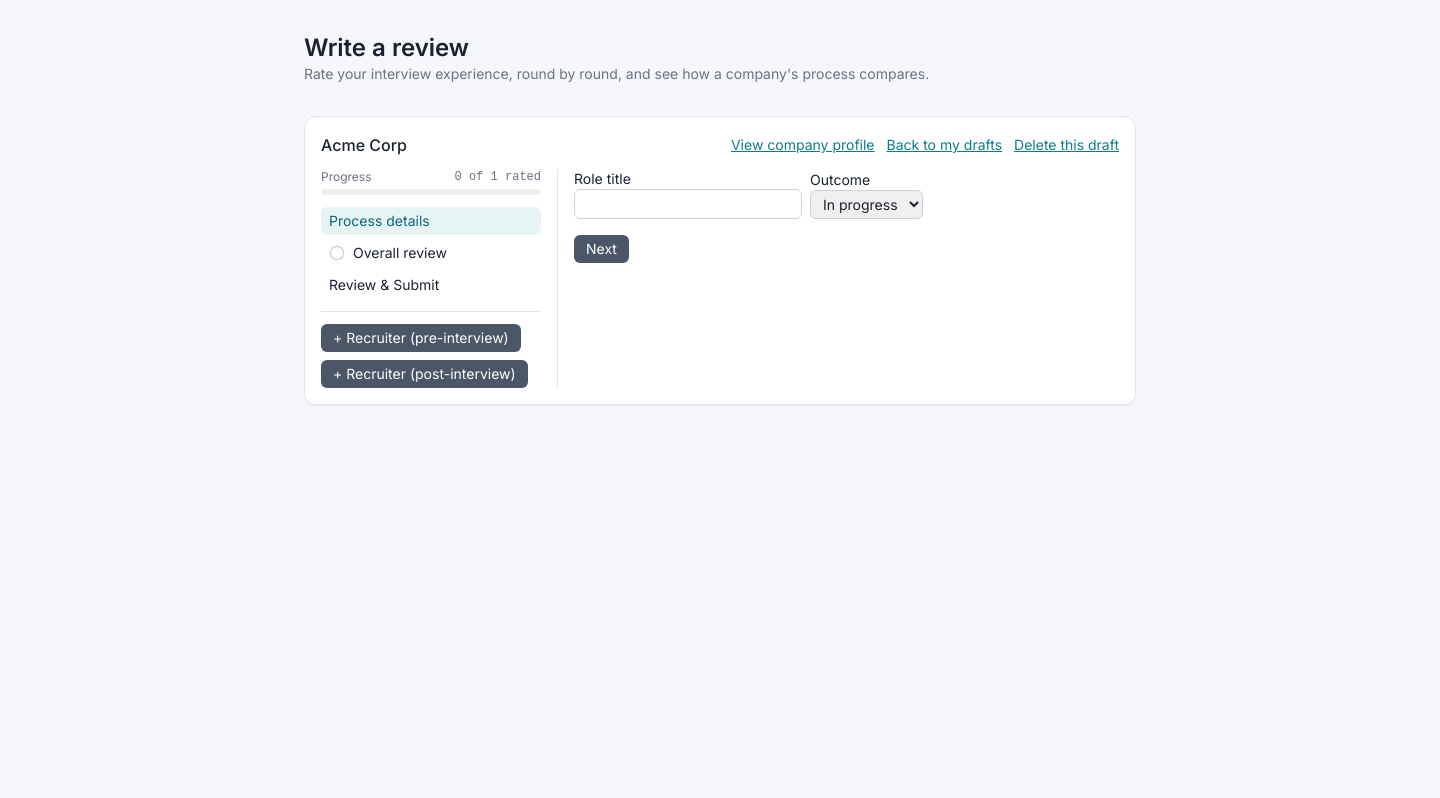
Test: Wizard step navigation (GitHub issue #254) › renders registry-driven type_metadata fields for the selected round type
The image size is (1440, 798).
expect the heading "Acme Corp" is shown: met, box [321, 133, 407, 157]
Type "Backend Engineer" into the field labelled "Role title".
click(688, 204); type("Backend Engineer")  # box [574, 189, 802, 219]
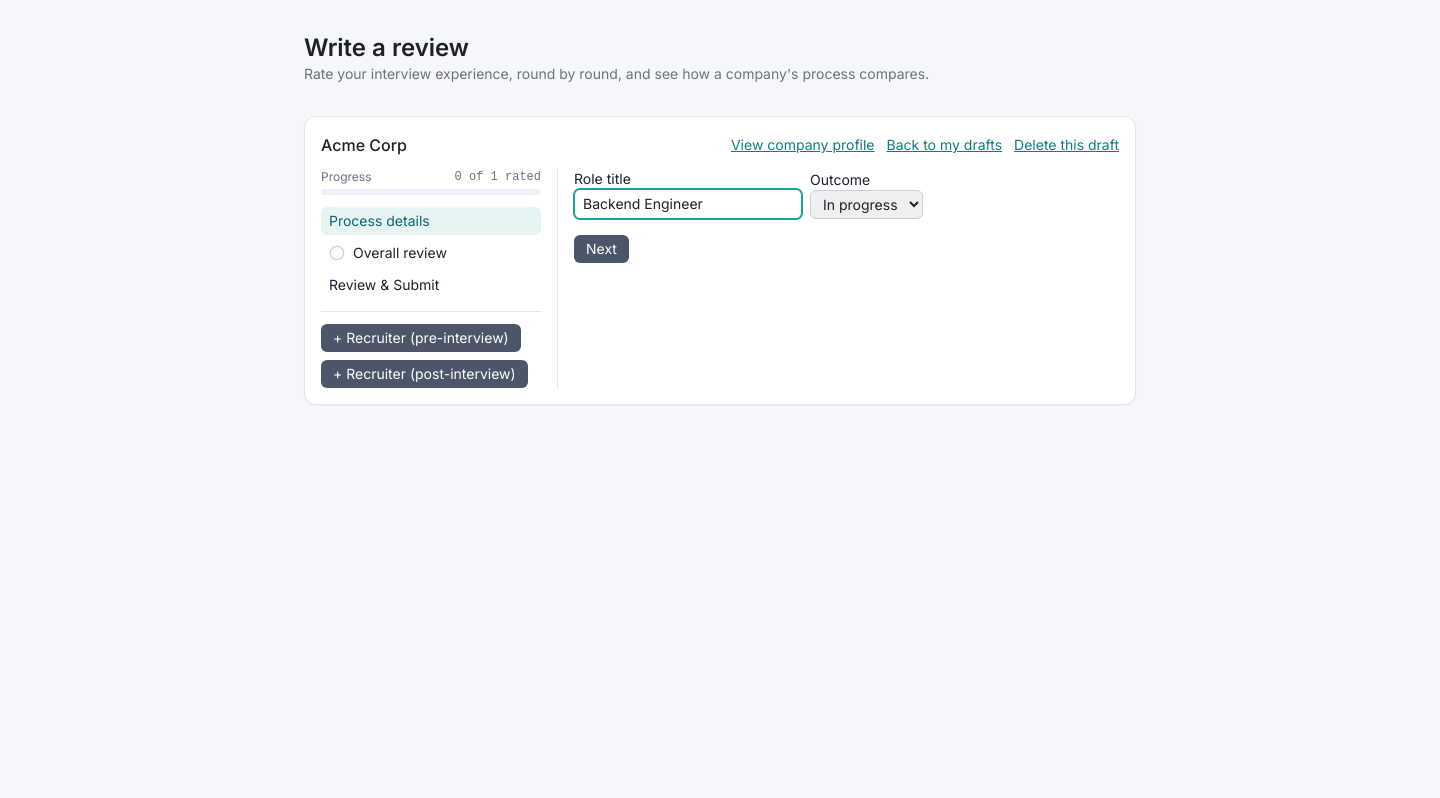
Click the button "Next".
click(601, 249)  # box [574, 235, 629, 263]
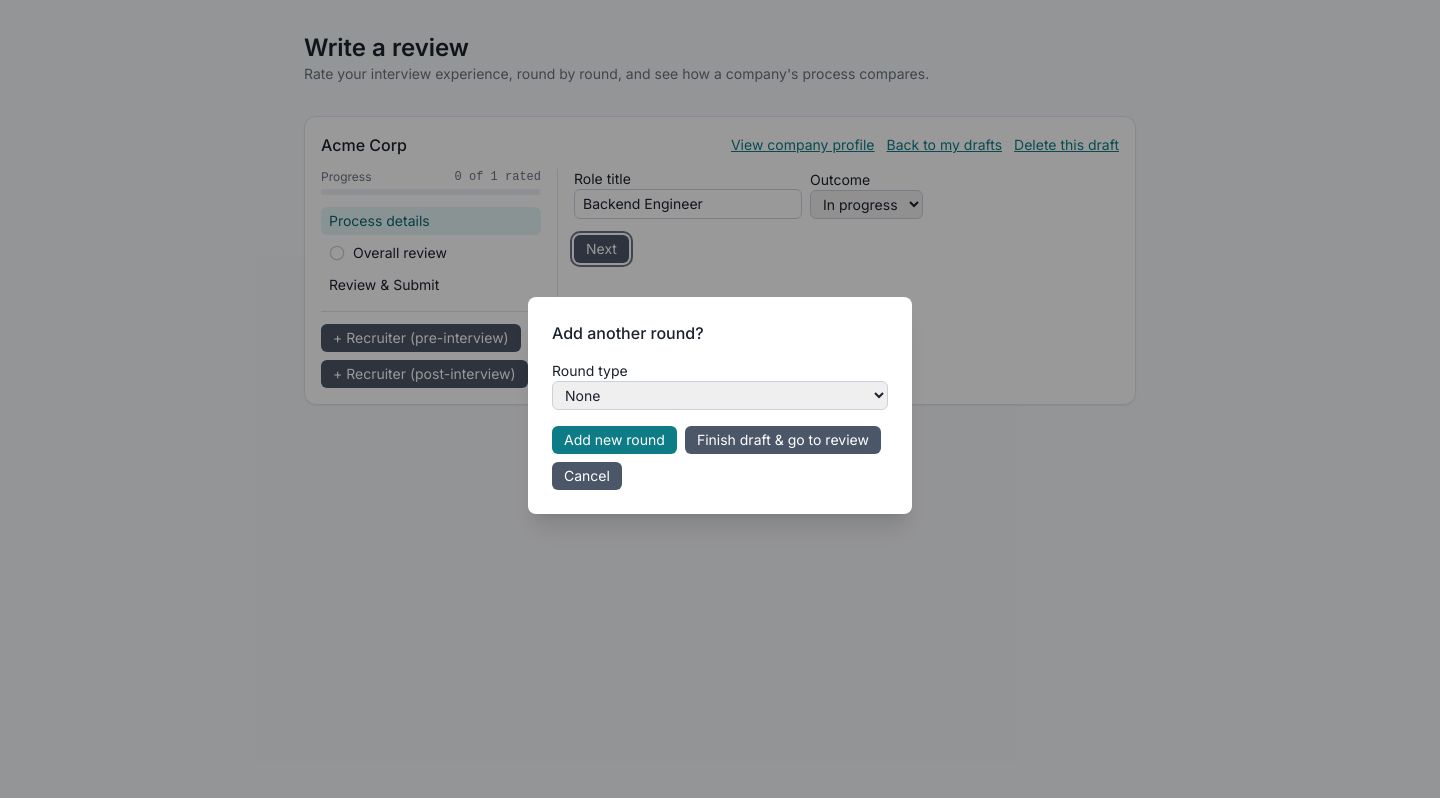
Select "Coding" in the dropdown labelled "Round type" at point(720, 395), box [552, 380, 888, 410]
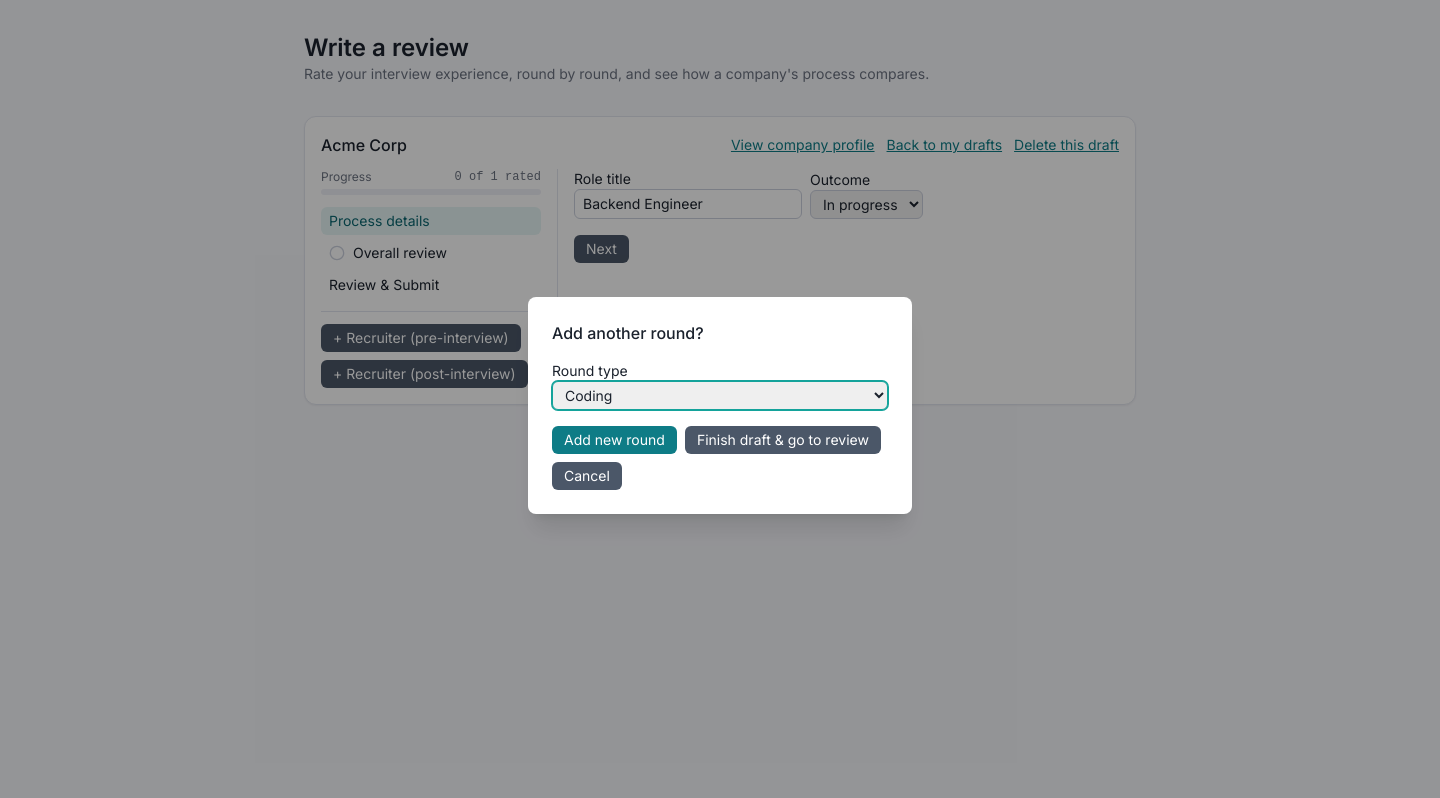
Click the button "Add new round".
click(614, 440)  # box [552, 426, 677, 454]
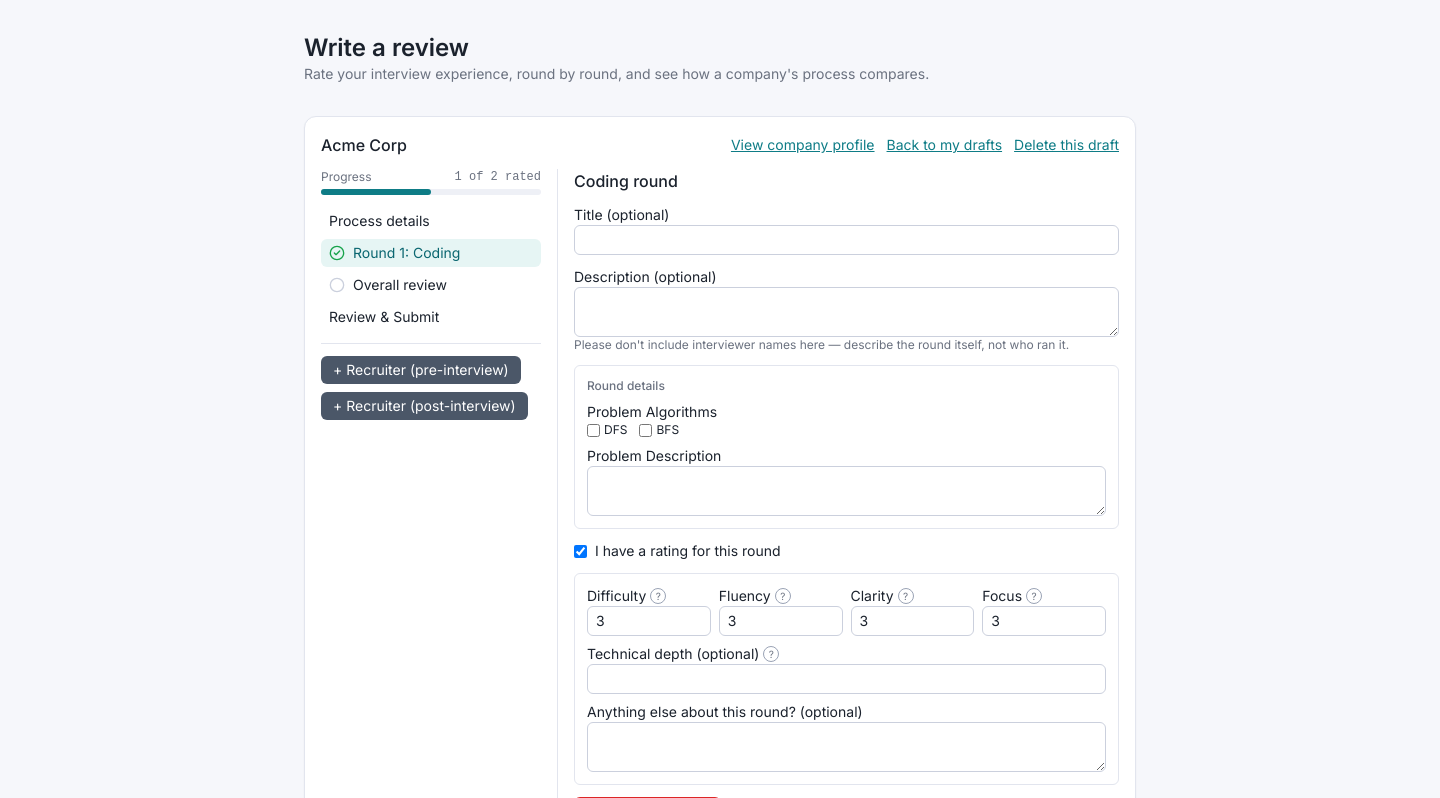
expect the text "DFS" is shown: met, box [587, 422, 628, 438]
expect the text "Problem Description" is shown: met, box [587, 446, 1106, 516]
